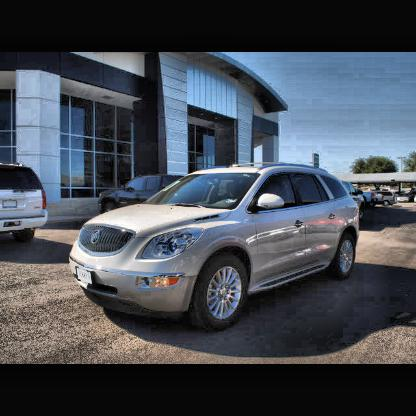Buick Enclave SUV 2012: (68, 159, 361, 329)
